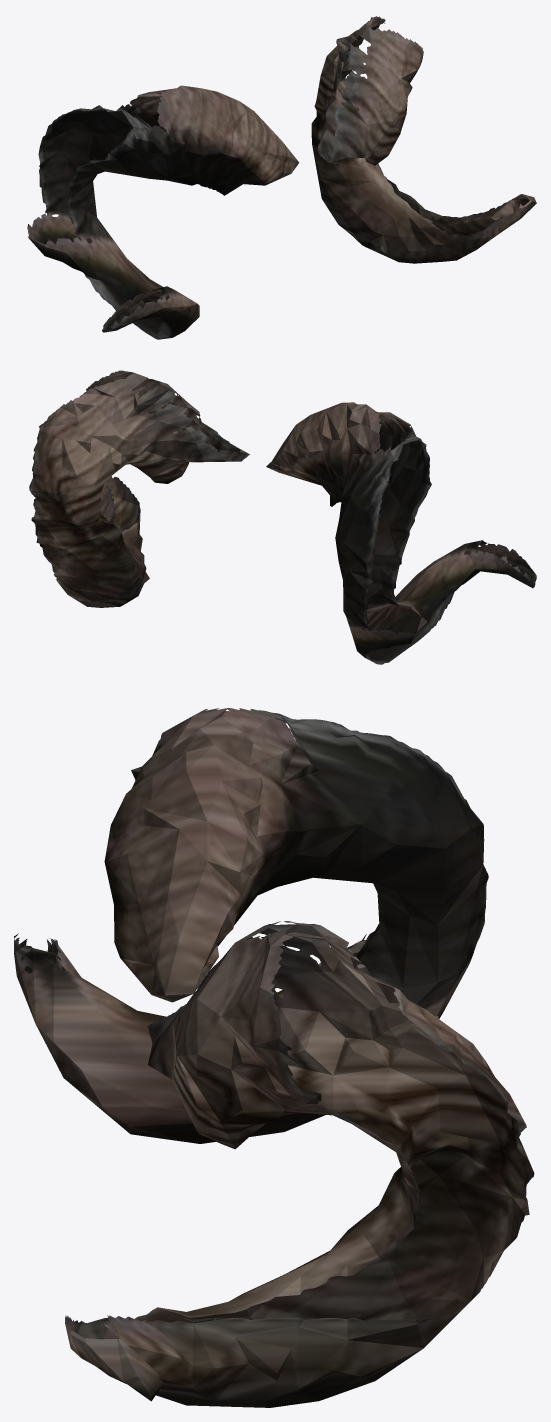
The model's file is bighorn-lite.glb.
The picture shows the model from 3 angles, top to bottom: view 1: azimuth 30°, elevation 25°; view 2: azimuth 150°, elevation 25°; view 3: azimuth 270°, elevation 25°; orthographic projection. The views are drawn at different scales.
Visible parts, largest first — view 1: geometry_0; view 2: geometry_0; view 3: geometry_0.
Boxes of the visible parts, x1,y1,x2,y2 form: geometry_0: (27,16,536,339); geometry_0: (29,370,536,664); geometry_0: (14,708,534,1407).
Bounding box in the file's own units: 1.01 × 0.489 × 0.5105.
1 material, 1 textured.
